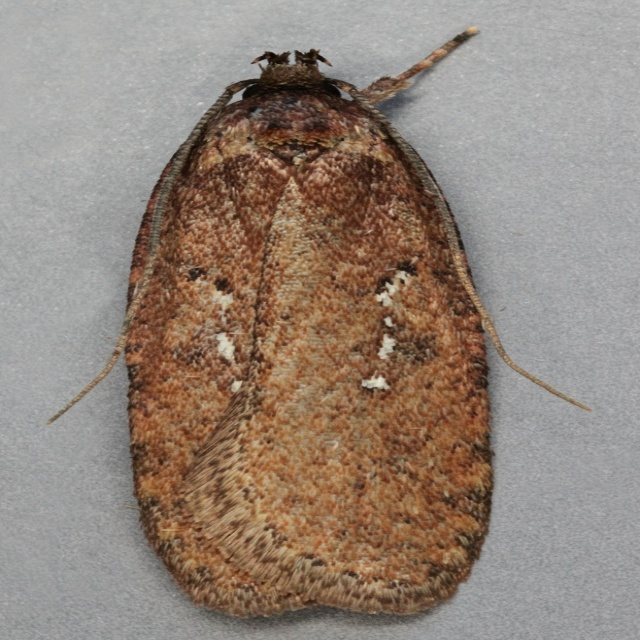Moths and butterflies: (44, 23, 598, 621)
